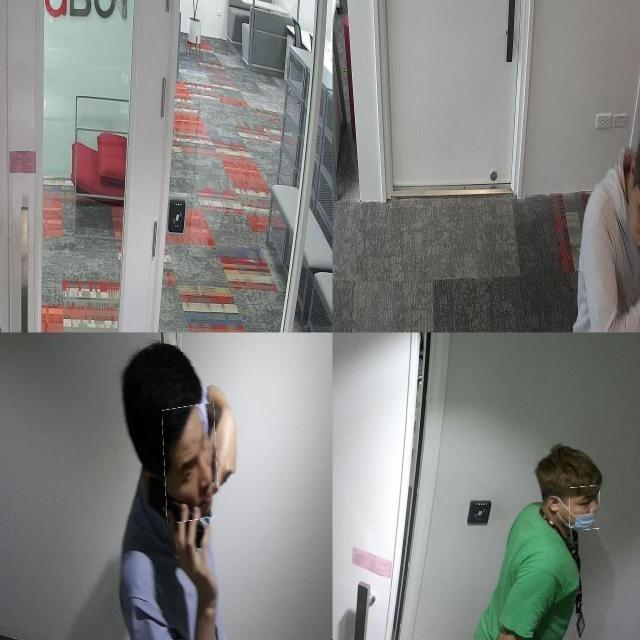hairnet: (569, 486, 600, 531)
